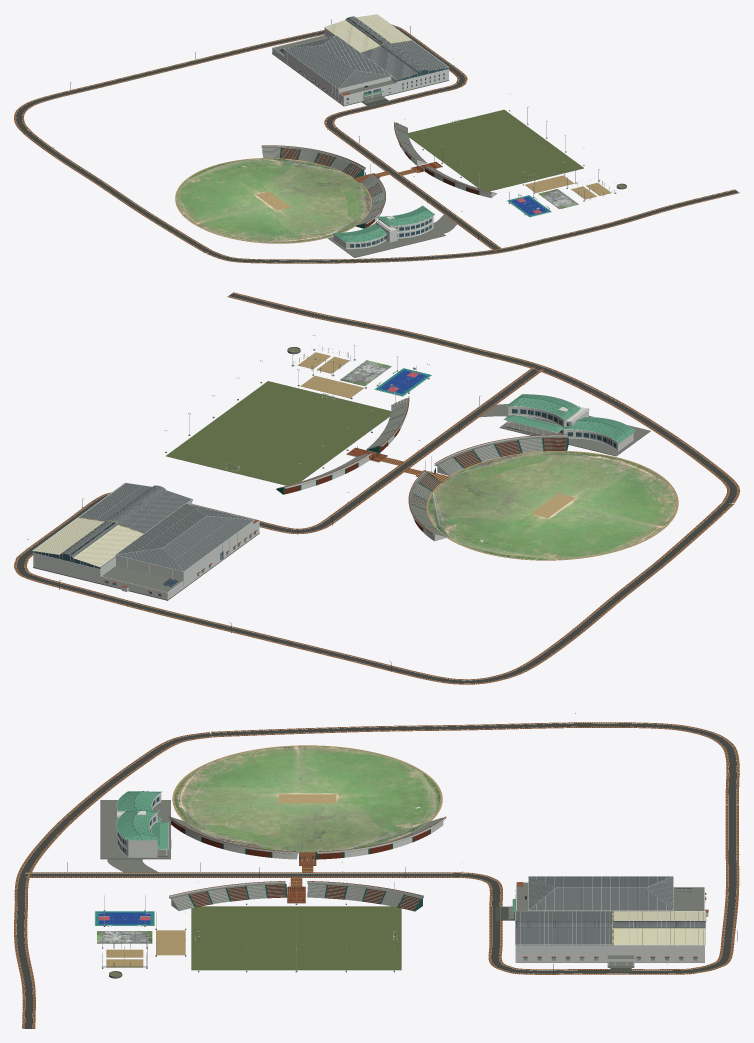
The model's file is campus.glb.
3 views of the same model, one above another, from view 1: azimuth 30°, elevation 25°; view 2: azimuth 150°, elevation 25°; view 3: azimuth 270°, elevation 25° (orthographic). The views are drawn at different scales.
Parts seen in each view (by area): view 1: NIT Silchar campus; view 2: NIT Silchar campus; view 3: NIT Silchar campus.
Part boxes in pixels (<box>): NIT Silchar campus: <box>14,14,739,263</box>; NIT Silchar campus: <box>14,292,739,684</box>; NIT Silchar campus: <box>14,713,739,1028</box>.
Bounding box in the file's own units: 393 × 14.66 × 393.
Materials: 44 (2 with a texture image).
